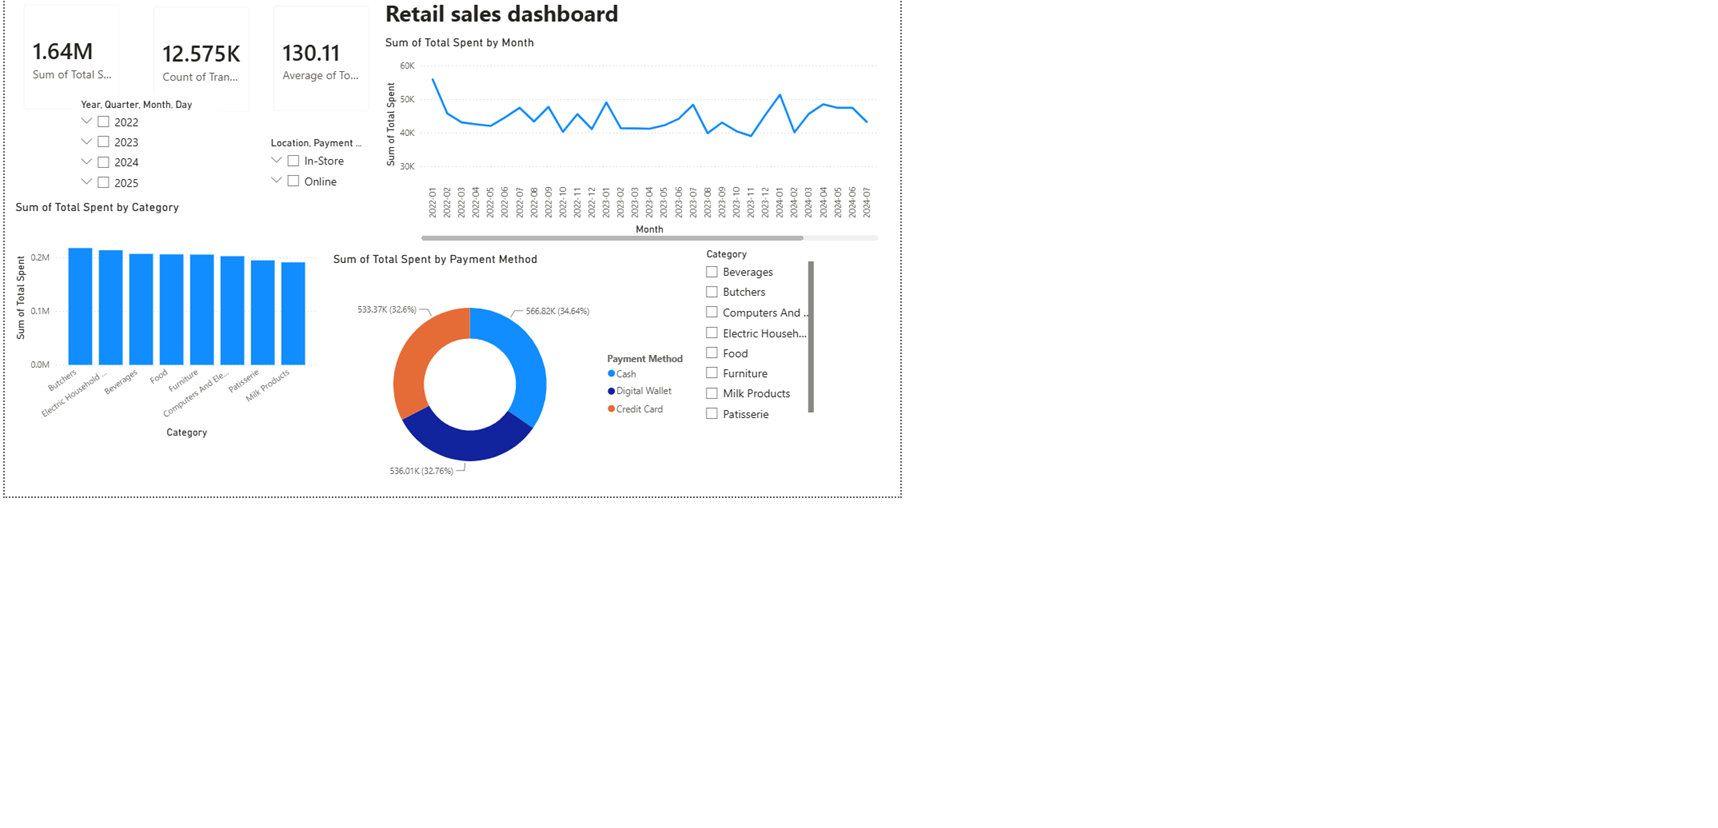

What the dashboard file says about the page in this screenshot:
{"tool":"powerbi","page":{"name":"Page 1","canvas":[1280,720],"ordinal":0},"visuals":[{"type":"cardVisual","fields":{"Data":["Sum(cleaned_data.Total Spent)"]},"box":[9.8,0,171.2,184.6],"z":0},{"type":"cardVisual","fields":{"Data":["Avg(cleaned_data.Total Spent)"]},"box":[366.8,1.2,171,185],"z":2},{"type":"cardVisual","fields":{"Data":["CountNonNull(cleaned_data.Transaction ID)"]},"box":[195.7,2.4,171,185],"z":3},{"type":"clusteredColumnChart","fields":{"Category":["cleaned_data.Category"],"Y":["Sum(cleaned_data.Total Spent)"]},"box":[9.8,295.9,442.7,346.1],"z":4},{"type":"donutChart","fields":{"Category":["cleaned_data.Payment Method"],"Y":["Sum(cleaned_data.Total Spent)"]},"box":[464.7,370.5,525.8,349.7],"z":5},{"type":"lineChart","fields":{"Category":["cleaned_data.Month"],"Y":["Sum(cleaned_data.Total Spent)"]},"box":[538,59.9,715.4,299.6],"z":6},{"type":"slicer","fields":{"Values":["cleaned_data.Category"]},"box":[990.5,359.5,171.2,256.8],"z":7},{"type":"slicer","fields":{"Values":["cleaned_data.Location","cleaned_data.Payment Method","cleaned_data.Transaction Date.Variation.Date Hierarchy.Year","cleaned_data.Transaction Date.Variation.Date Hierarchy.Quarter","cleaned_data.Transaction Date.Variation.Date Hierarchy.Month","cleaned_data.Transaction Date.Variation.Date Hierarchy.Day"]},"box":[366.8,201.8,171.2,157.7],"z":8},{"type":"textbox","box":[538,1.2,379.1,58.7],"z":9},{"type":"slicer","fields":{"Values":["cleaned_data.Transaction Date.Variation.Date Hierarchy.Year","cleaned_data.Transaction Date.Variation.Date Hierarchy.Quarter","cleaned_data.Transaction Date.Variation.Date Hierarchy.Month","cleaned_data.Transaction Date.Variation.Date Hierarchy.Day"]},"box":[95.4,145.5,211.6,150.4],"z":10}]}

Visuals, with their boxes in screenshot pixels (x1, y1, x2, y2):
cardVisual - Sum(cleaned_data.Total Spent): [319, 40, 507, 242]
cardVisual - Avg(cleaned_data.Total Spent): [710, 42, 897, 244]
cardVisual - CountNonNull(cleaned_data.Transaction ID): [523, 43, 710, 245]
clusteredColumnChart - cleaned_data.Category x Sum(cleaned_data.Total Spent): [319, 364, 803, 742]
donutChart - cleaned_data.Payment Method x Sum(cleaned_data.Total Spent): [817, 445, 1392, 827]
lineChart - cleaned_data.Month x Sum(cleaned_data.Total Spent): [897, 106, 1679, 433]
slicer - cleaned_data.Category: [1392, 433, 1579, 714]
slicer - cleaned_data.Location x cleaned_data.Payment Method: [710, 261, 897, 433]
textbox: [897, 42, 1312, 106]
slicer - cleaned_data.Transaction Date.Variation.Date Hierarchy.Year x cleaned_data.Transaction Date.Variation.Date Hierarchy.Quarter: [413, 199, 644, 364]
